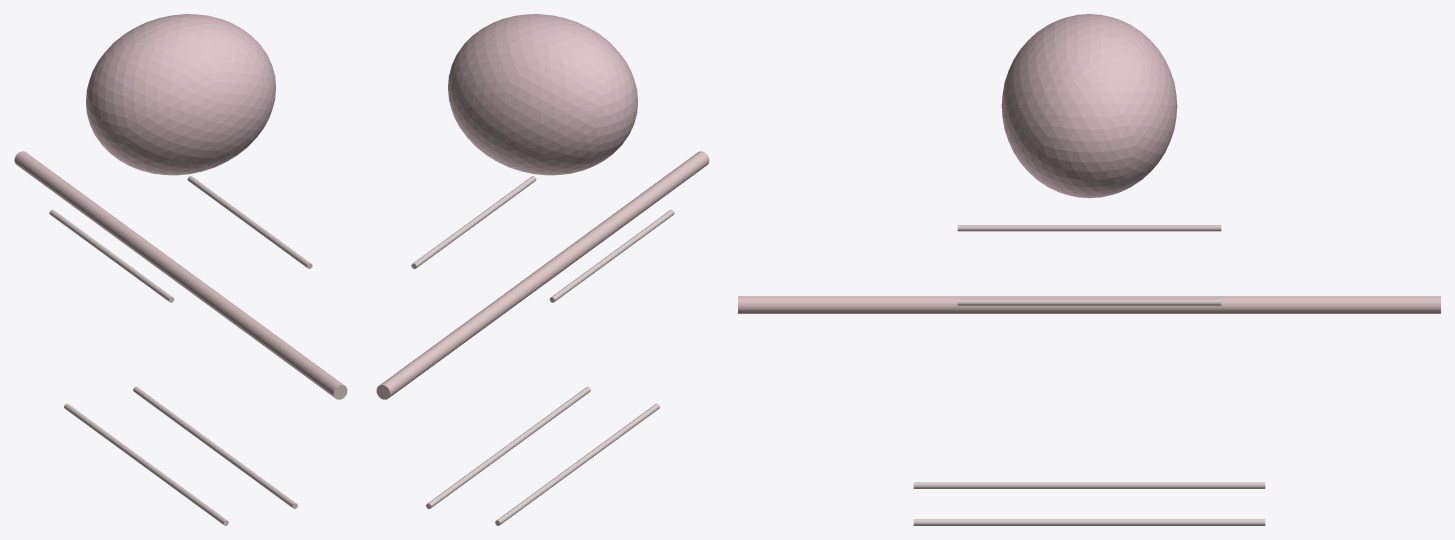
Rendered from nervous_system.glb.
The picture shows the model from 3 angles, left to right: view 1: azimuth 30°, elevation 25°; view 2: azimuth 150°, elevation 25°; view 3: azimuth 270°, elevation 25°; orthographic projection. The views are drawn at different scales.
Parts seen in each view (by area): view 1: world; view 2: world; view 3: world.
Boxes of the visible parts, <box> form: world: <box>14,14,347,525</box>; world: <box>376,14,709,525</box>; world: <box>738,14,1440,525</box>.
Bounding box in the file's own units: 5 × 12.08 × 16.
